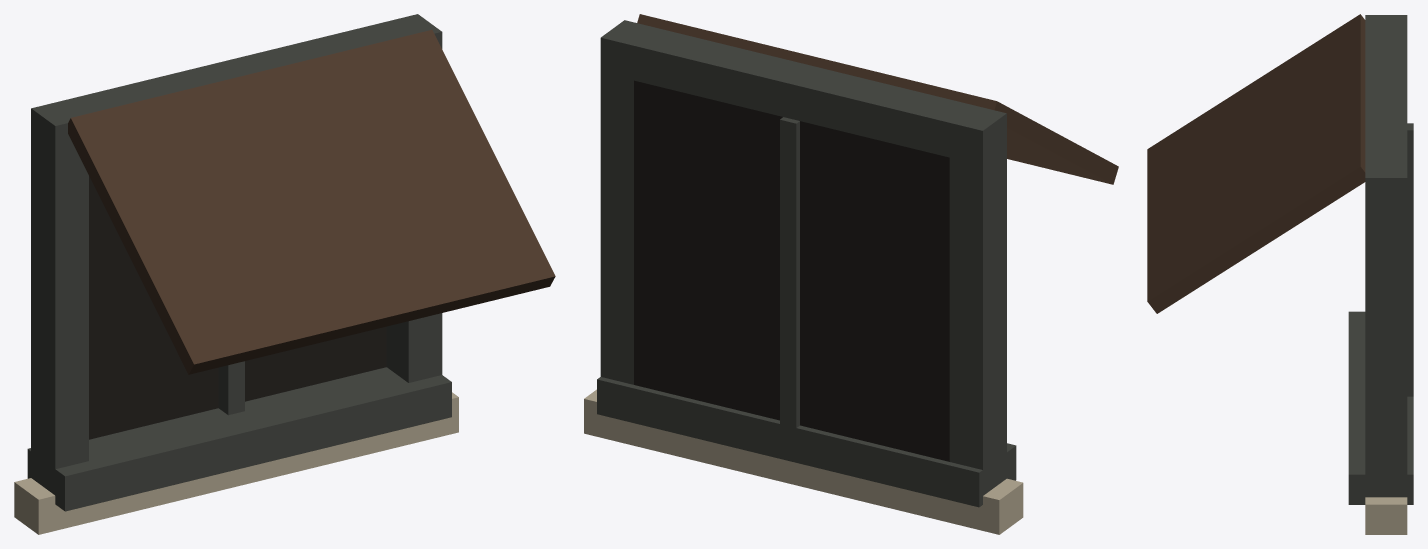
Rendered from window_frame.glb.
3 renders of one model, left to right at view 1: azimuth 30°, elevation 25°; view 2: azimuth 150°, elevation 25°; view 3: azimuth 270°, elevation 25°, orthographic. The views are drawn at different scales.
Parts seen in each view (by area): view 1: window_frame; view 2: window_frame; view 3: window_frame.
Part boxes in pixels (x1,y1,x2,y2): window_frame: (14, 14, 555, 534); window_frame: (584, 14, 1118, 534); window_frame: (1147, 14, 1413, 534).
Size of the model in its own units: 1 by 0.9364 by 0.6343.
